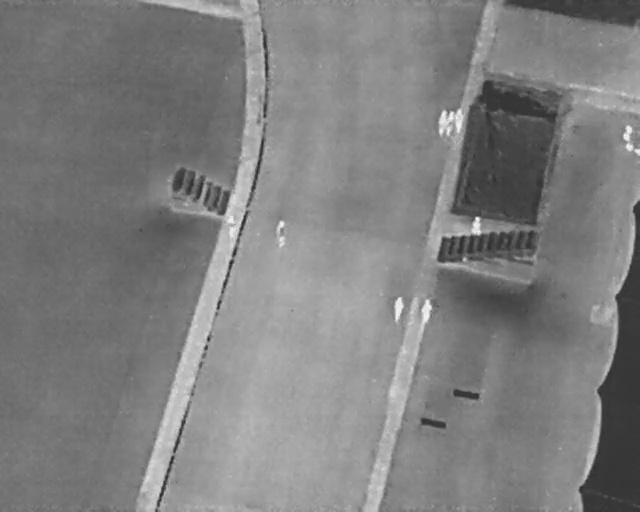Person: (418, 298, 435, 326), (393, 294, 406, 322), (224, 216, 239, 240), (276, 218, 287, 247), (437, 108, 448, 137), (471, 215, 484, 236), (446, 111, 456, 137), (456, 107, 463, 135)
